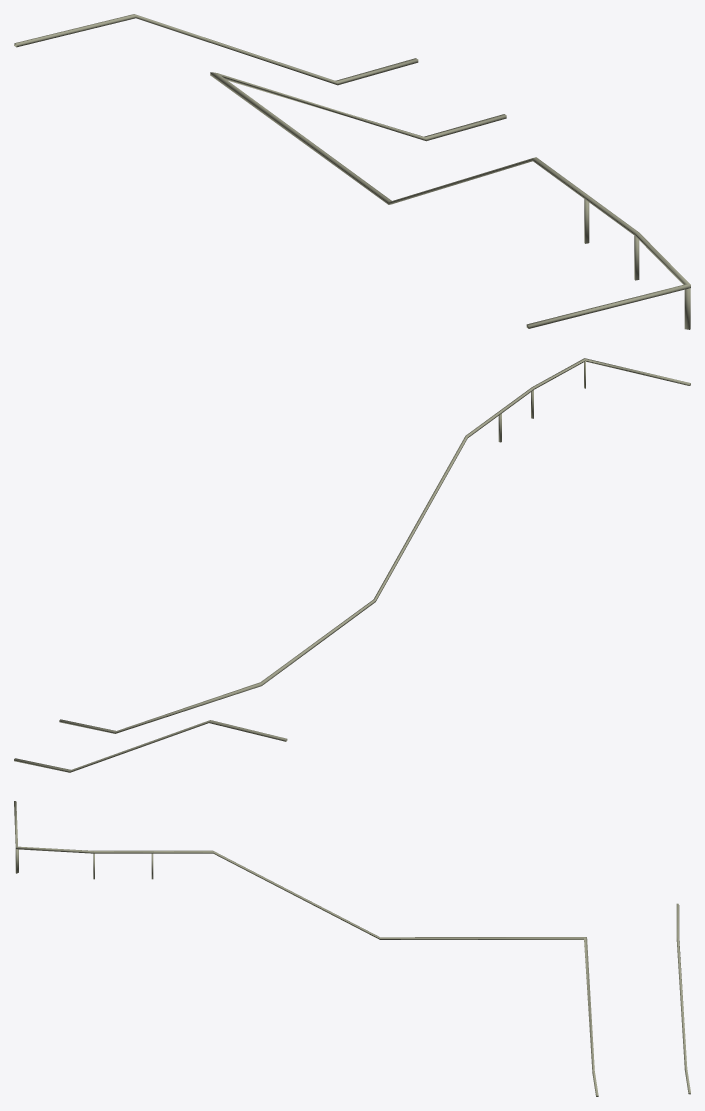
File: CouloirTouffu_Block_04.fbx
3 views of the same model, one above another, from view 1: azimuth 30°, elevation 25°; view 2: azimuth 150°, elevation 25°; view 3: azimuth 270°, elevation 25° (orthographic). The views are drawn at different scales.
Visible parts, largest first — view 1: CouloirTouffu_Block_04; view 2: CouloirTouffu_Block_04; view 3: CouloirTouffu_Block_04.
Part boxes in pixels (x1,y1,x2,y2): CouloirTouffu_Block_04: [14, 14, 690, 329]; CouloirTouffu_Block_04: [14, 358, 690, 772]; CouloirTouffu_Block_04: [14, 801, 690, 1096].
Bounding box in the file's own units: 1451 × 798 × 3058.
